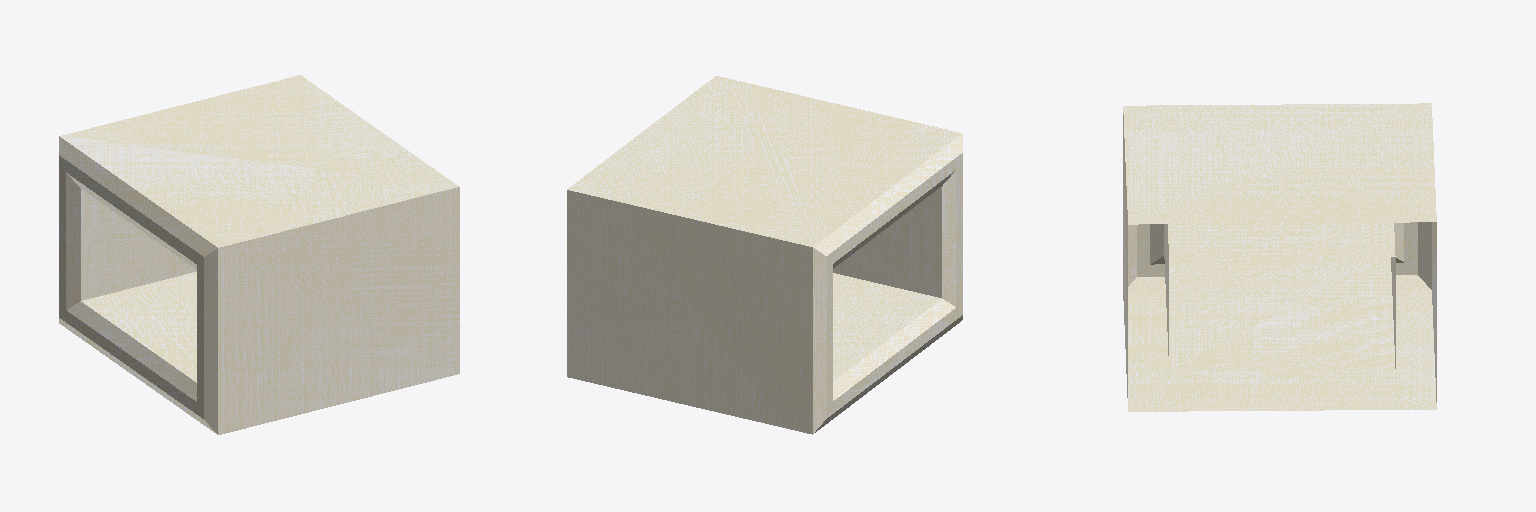
Rendered from original-98.obj.
The picture shows the model from 3 angles: view 1: azimuth 30°, elevation 25°; view 2: azimuth 150°, elevation 25°; view 3: azimuth 270°, elevation 25°; orthographic projection.
Visible parts, largest first — view 1: mesh97/mesh97-geometry#mesh97-geometry; view 2: mesh97/mesh97-geometry#mesh97-geometry; view 3: mesh97/mesh97-geometry#mesh97-geometry.
Boxes of the visible parts, <box> form: mesh97/mesh97-geometry#mesh97-geometry: <box>59,75,459,434</box>; mesh97/mesh97-geometry#mesh97-geometry: <box>567,76,962,434</box>; mesh97/mesh97-geometry#mesh97-geometry: <box>1123,103,1436,411</box>.
Size of the model in its own units: 0.0362 by 0.0254 by 0.0385.